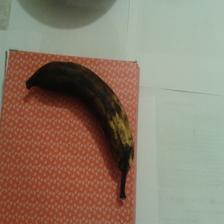Banana Rotten: (19, 57, 137, 187)
